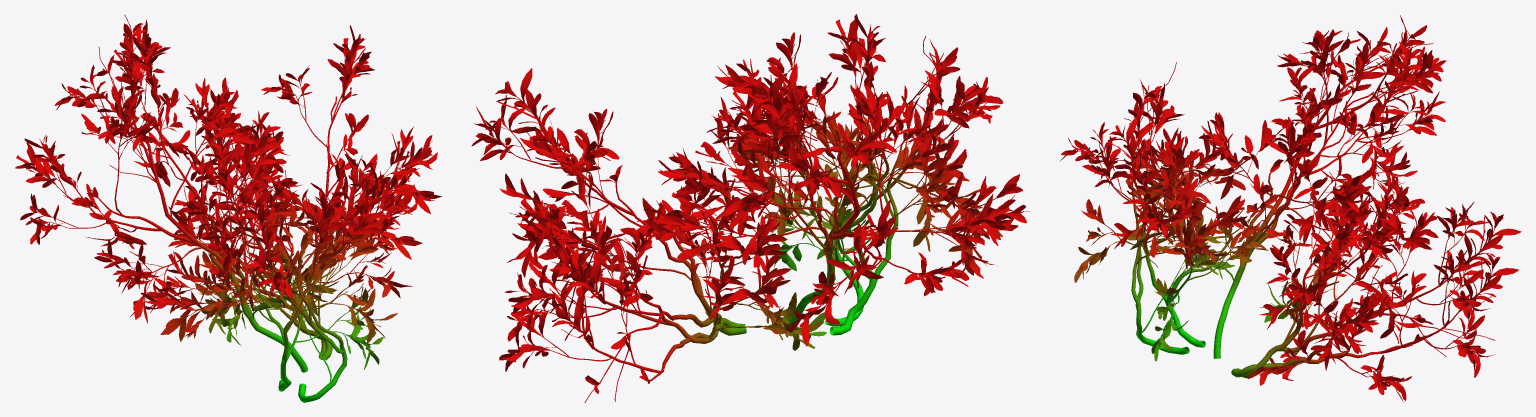
File: Downy Willow_LOD1_Var18_wknlfiuqx.fbx
3 renders of one model, left to right at view 1: azimuth 30°, elevation 25°; view 2: azimuth 150°, elevation 25°; view 3: azimuth 270°, elevation 25°, orthographic. The views are drawn at different scales.
Visible parts, largest first — view 1: _k1ev_Var18_LOD1; view 2: _k1ev_Var18_LOD1; view 3: _k1ev_Var18_LOD1.
Part boxes in pixels (left/top/right/bottom): _k1ev_Var18_LOD1: left=15, top=14, right=441, bottom=402; _k1ev_Var18_LOD1: left=471, top=14, right=1029, bottom=402; _k1ev_Var18_LOD1: left=1059, top=15, right=1521, bottom=402.
Bounding box in the file's own units: 123 × 93.87 × 128.
